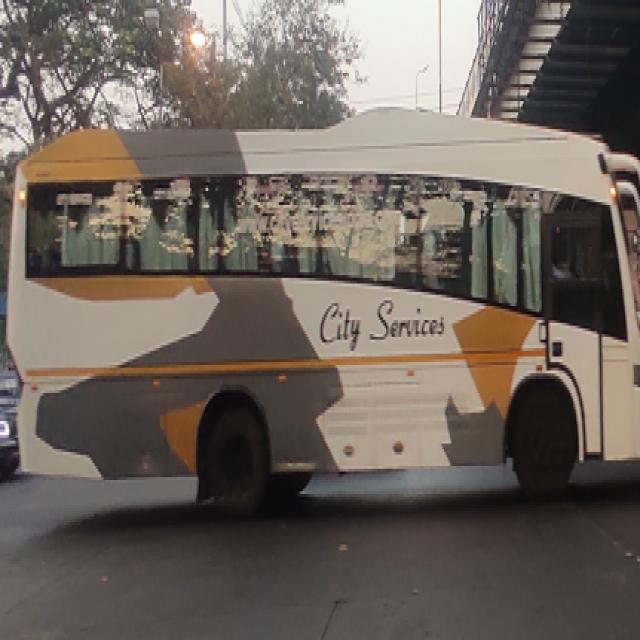bus: (6, 107, 640, 508)
